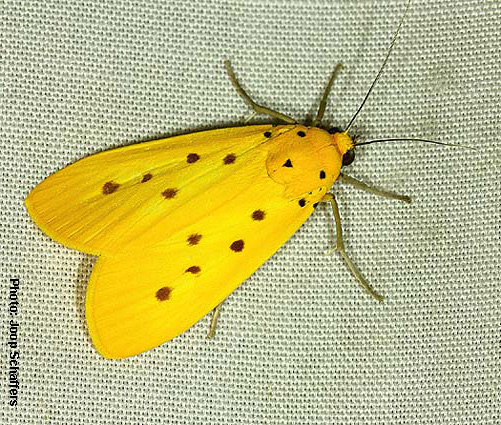Agape chloropyga: (19, 1, 482, 361)
moth: (21, 2, 484, 363)
